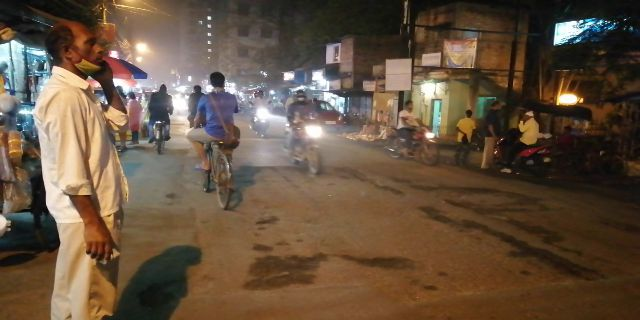Cycle: (188, 73, 239, 212)
Motorbike: (280, 87, 329, 173)
